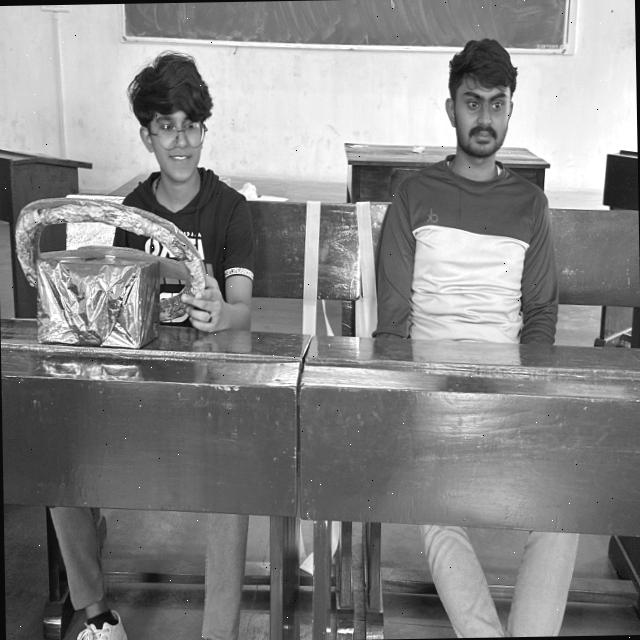no-seatbelt: (368, 161, 560, 374), (94, 162, 264, 356)
